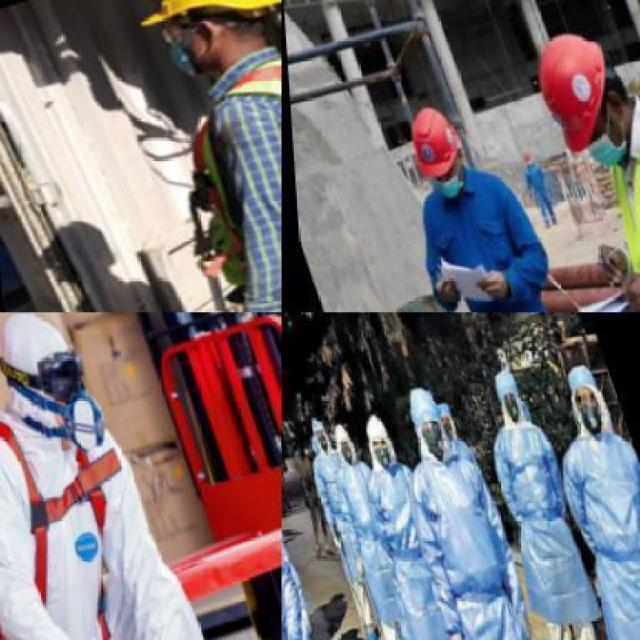vest: (0, 370, 203, 638), (142, 34, 280, 311), (394, 443, 572, 639), (480, 416, 600, 636), (351, 454, 474, 638), (544, 424, 638, 638), (323, 455, 419, 631), (570, 100, 638, 311), (306, 450, 380, 588)
